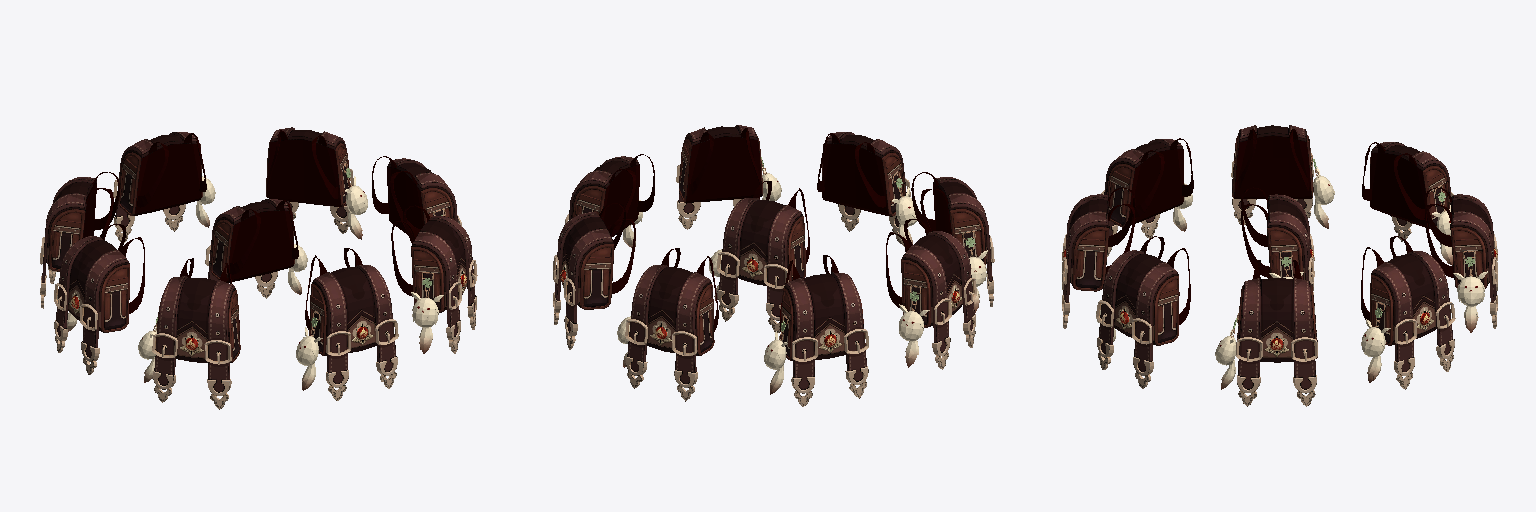
3 views of the same model, side by side, from view 1: azimuth 30°, elevation 25°; view 2: azimuth 150°, elevation 25°; view 3: azimuth 270°, elevation 25° (orthographic).
Parts seen in each view (by area): view 1: Mesh.003, Mesh.008, Mesh.004, Mesh.001, Mesh.006, Mesh.005, Mesh, Mesh.007, Mesh.002; view 2: Mesh.007, Mesh.001, Mesh, Mesh.004, Mesh.003, Mesh.006, Mesh.005, Mesh.008, Mesh.002; view 3: Mesh.002, Mesh.005, Mesh.006, Mesh.004, Mesh.007, Mesh.008, Mesh.001, Mesh.003, Mesh.
Boxes of the visible parts, <box> form: Mesh.003: <box>296,248,398,400</box>; Mesh.008: <box>138,258,240,409</box>; Mesh.004: <box>54,224,144,374</box>; Mesh.001: <box>113,132,215,242</box>; Mesh.006: <box>391,205,477,353</box>; Mesh.005: <box>266,127,367,239</box>; Mesh: <box>205,199,307,298</box>; Mesh.007: <box>40,172,119,308</box>; Mesh.002: <box>372,156,461,234</box>; Mesh.007: <box>764,255,868,406</box>; Mesh.001: <box>617,248,718,401</box>; Mesh: <box>709,181,809,332</box>; Mesh.004: <box>886,219,976,369</box>; Mesh.003: <box>817,132,916,246</box>; Mesh.006: <box>676,125,781,229</box>; Mesh.005: <box>553,203,635,349</box>; Mesh.008: <box>911,172,994,312</box>; Mesh.002: <box>565,154,654,247</box>; Mesh.002: <box>1215,260,1317,406</box>; Mesh.005: <box>1361,236,1455,389</box>; Mesh.006: <box>1096,236,1190,388</box>; Mesh.004: <box>1231,125,1334,228</box>; Mesh.007: <box>1362,142,1453,265</box>; Mesh.008: <box>1101,138,1193,256</box>; Mesh.001: <box>1424,187,1497,332</box>; Mesh.003: <box>1062,187,1135,328</box>; Mesh: <box>1241,187,1314,294</box>.
Size of the model in its own units: 10.05 by 3.08 by 10.1.
1 materials, 1 textured.